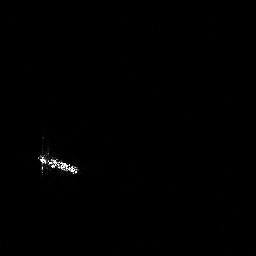ship: (33, 149, 83, 178)
